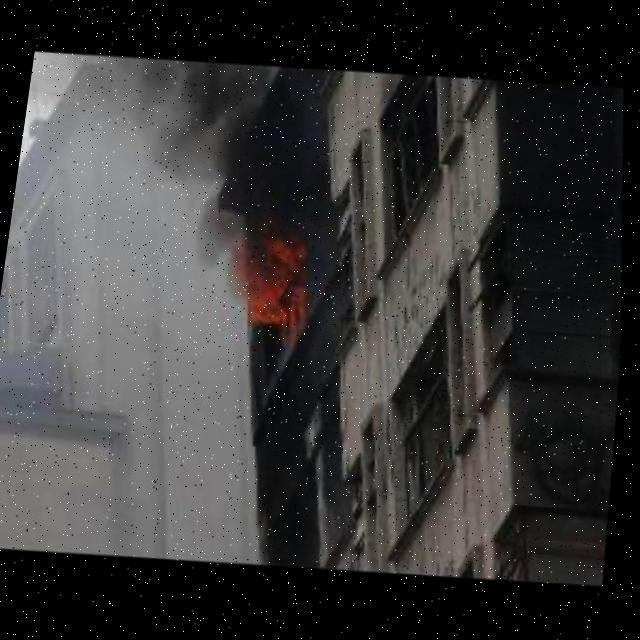fire: (230, 210, 334, 349)
